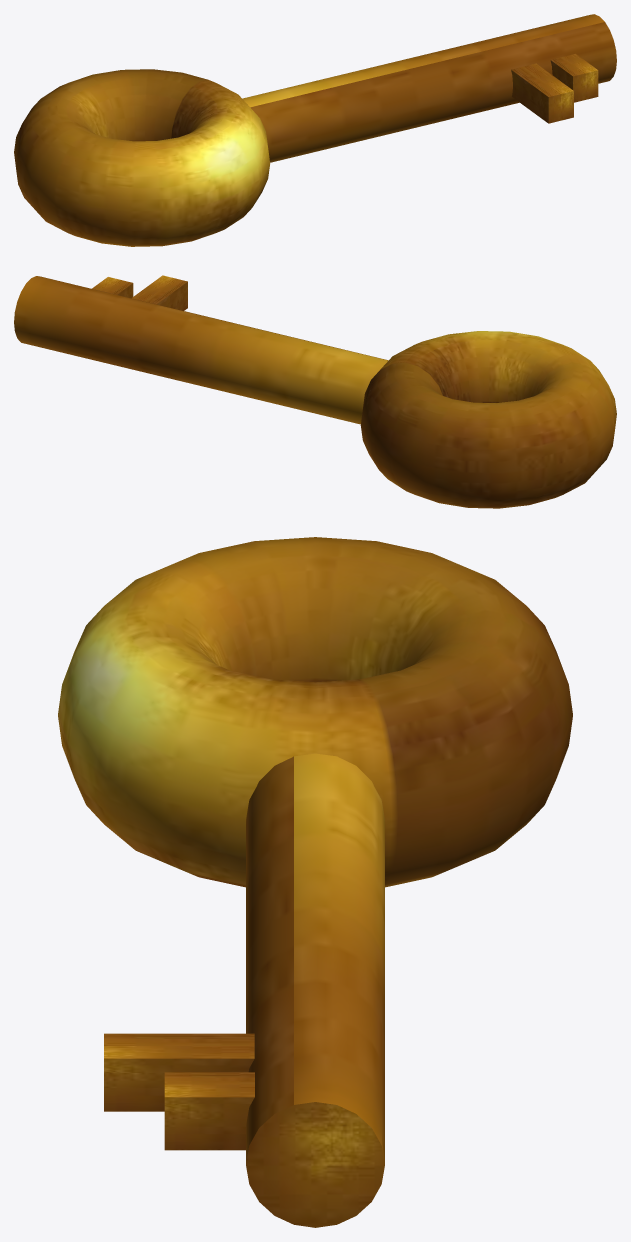
File: BlueKey.fbx
The picture shows the model from 3 angles, top to bottom: view 1: azimuth 30°, elevation 25°; view 2: azimuth 150°, elevation 25°; view 3: azimuth 270°, elevation 25°; orthographic projection. The views are drawn at different scales.
Parts seen in each view (by area): view 1: pTorus2; view 2: pTorus2; view 3: pTorus2.
Boxes of the visible parts, box(x1,y1,x2,y2) form: pTorus2: box(14, 14, 616, 246); pTorus2: box(14, 275, 616, 508); pTorus2: box(58, 537, 572, 1227).
Bounding box in the file's own units: 0.4118 × 0.0686 × 0.1614.
Materials: 1 (1 with a texture image).
